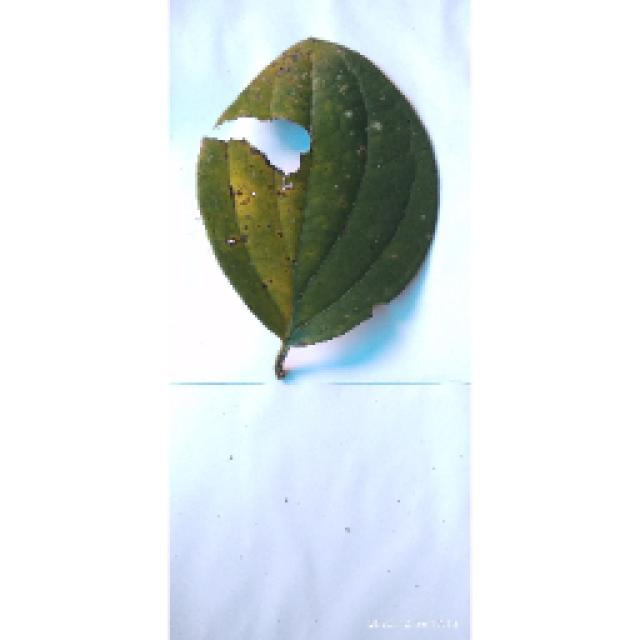slow-decline: (183, 28, 445, 382)
